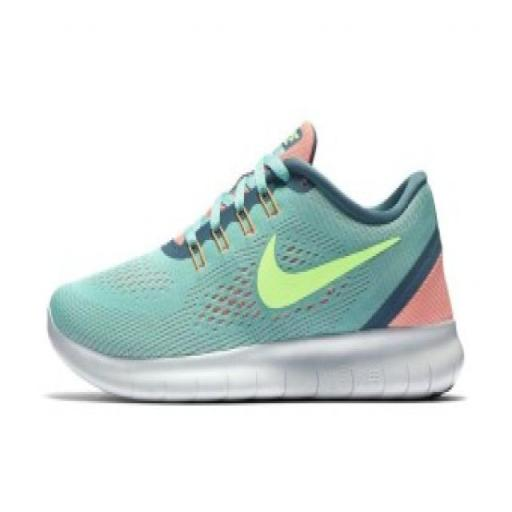Nike: (252, 224, 404, 320)
